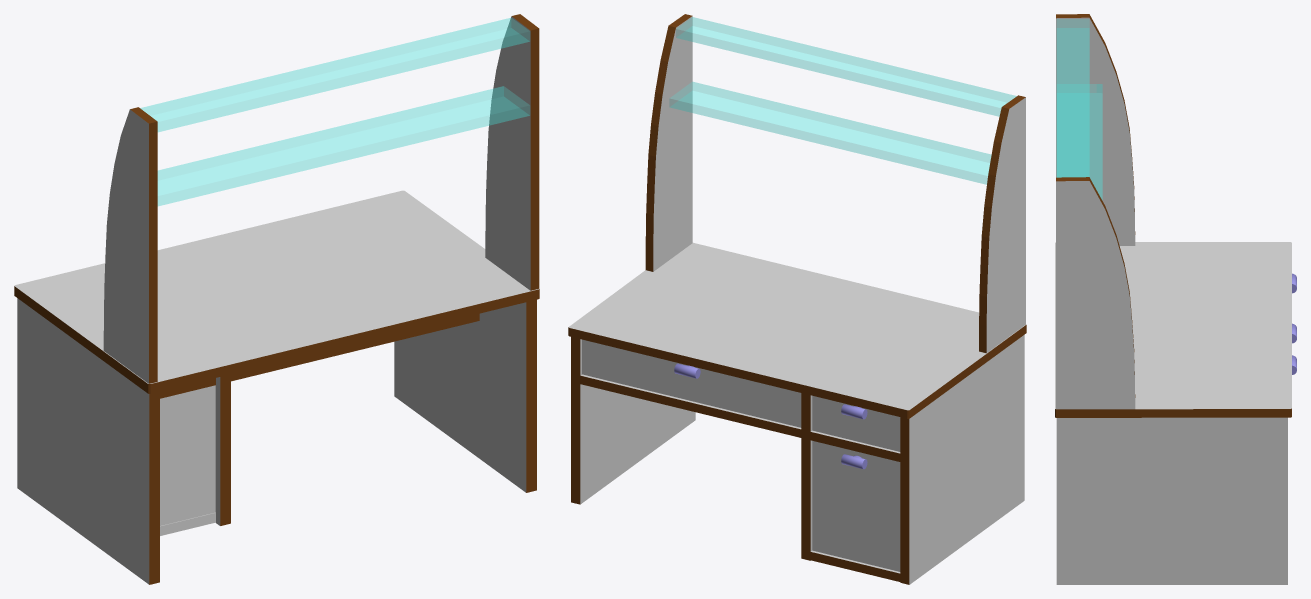
The model's file is table_tier10.fbx.
3 views of the same model, side by side, from view 1: azimuth 30°, elevation 25°; view 2: azimuth 150°, elevation 25°; view 3: azimuth 270°, elevation 25° (orthographic). The views are drawn at different scales.
Visible parts, largest first — view 1: Cube.002, Cube.010; view 2: Cube.002, Cube.008, Cube.006, Cube.007; view 3: Cube.002.
Boxes of the visible parts, x1,y1,x2,y2 form: Cube.002: [14, 14, 539, 584]; Cube.010: [160, 385, 215, 525]; Cube.002: [568, 14, 1026, 584]; Cube.008: [812, 441, 900, 571]; Cube.006: [582, 339, 801, 427]; Cube.007: [812, 395, 900, 451]; Cube.002: [1055, 14, 1291, 584].
Size of the model in its own units: 181 by 204 by 111.
